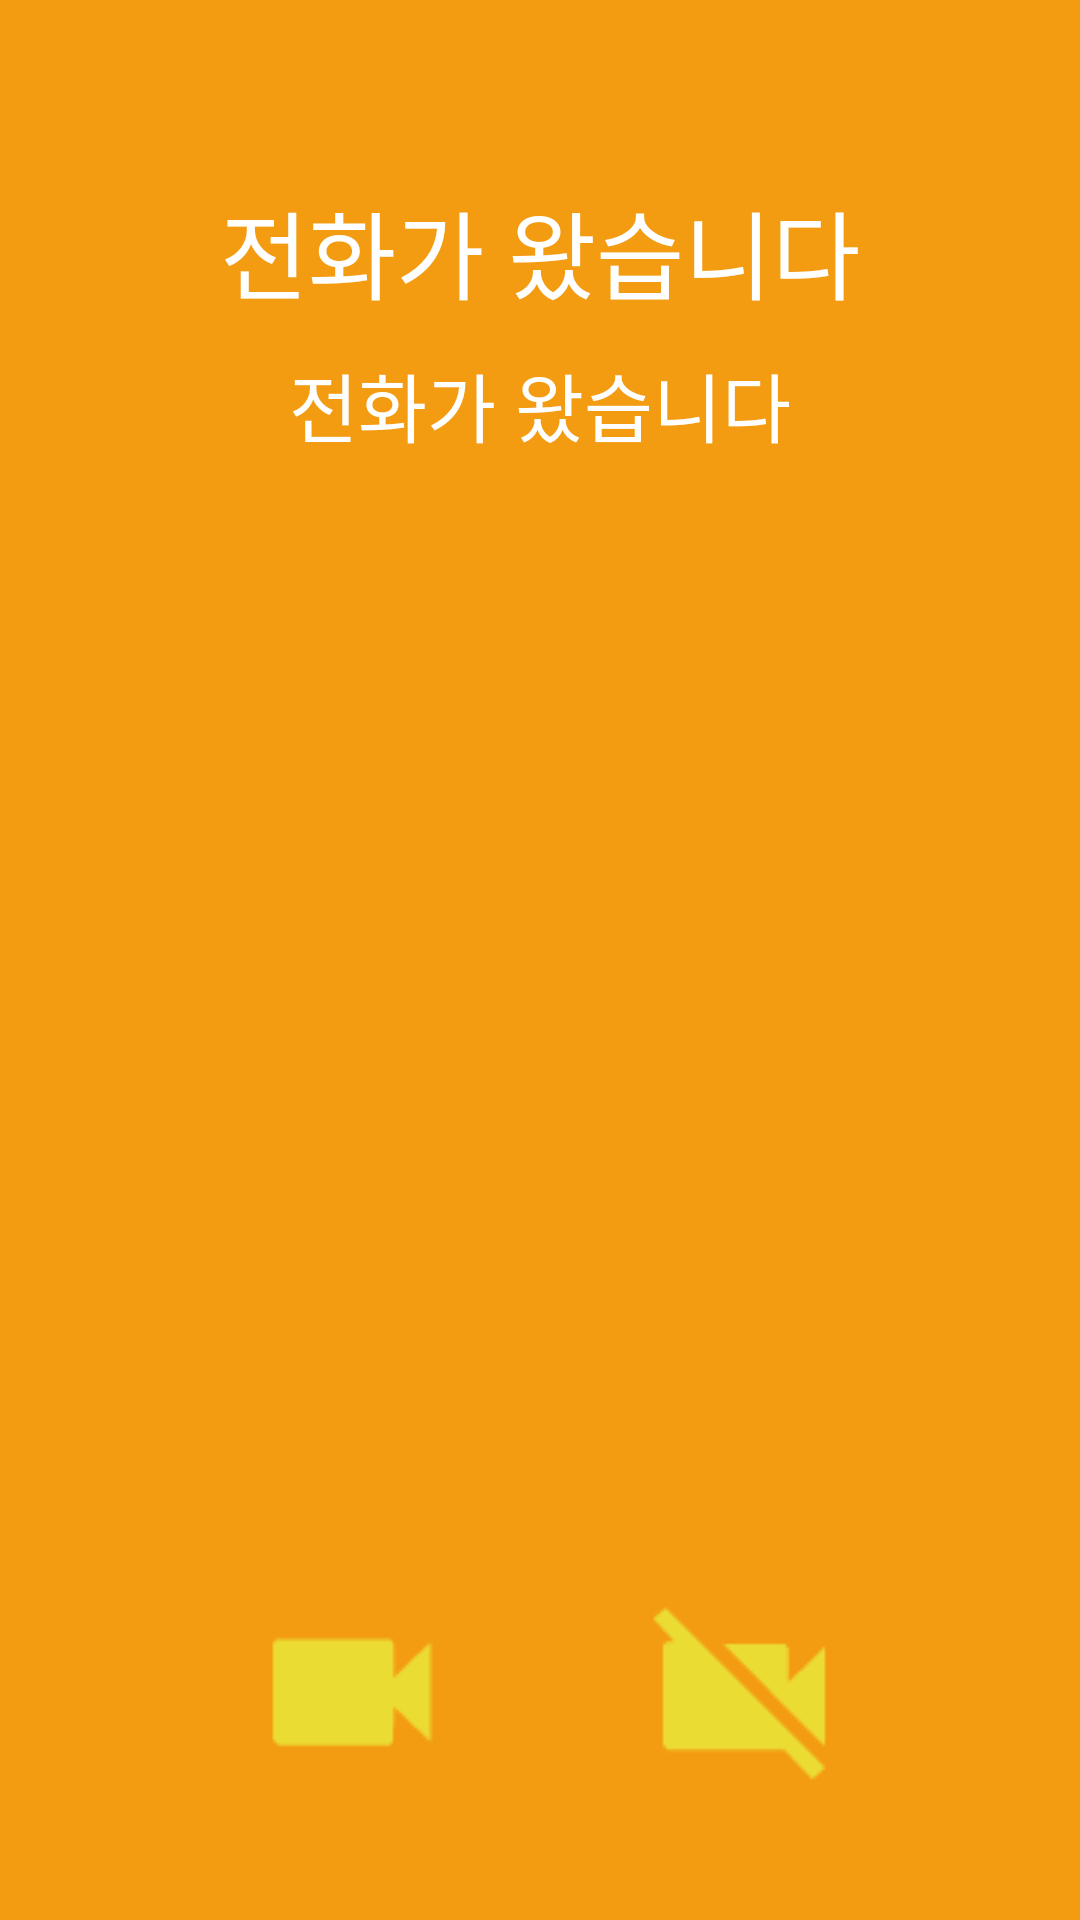

Icons on this 1080 x 1920 Android screen, each with the point to tap as [x,y]:
accept: [352,1692]
deny: [739,1693]
